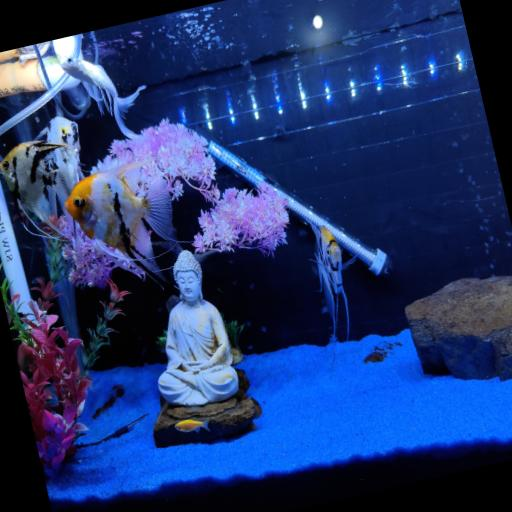Fish: (64, 163, 172, 281), (60, 58, 144, 139), (0, 141, 75, 227), (311, 226, 355, 348), (36, 116, 83, 186), (36, 116, 82, 184), (174, 420, 209, 432)
